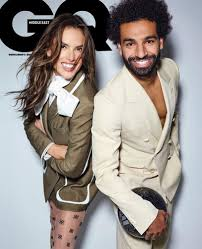middle_eastern_male: (120, 22, 160, 73)
